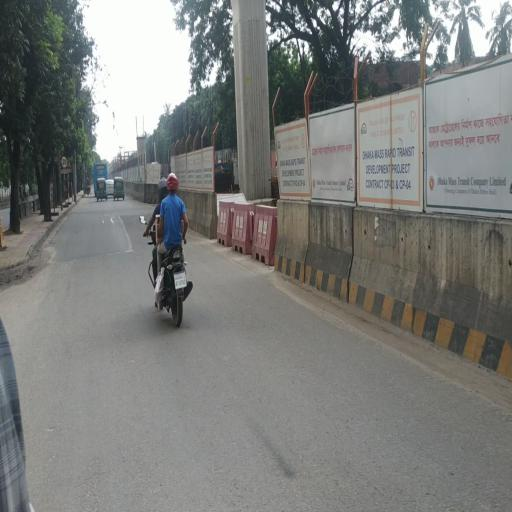motorbike: (139, 173, 198, 333)
rickshaw: (84, 177, 93, 200)
three wheelers (CNG): (114, 176, 126, 201), (97, 177, 108, 203)
